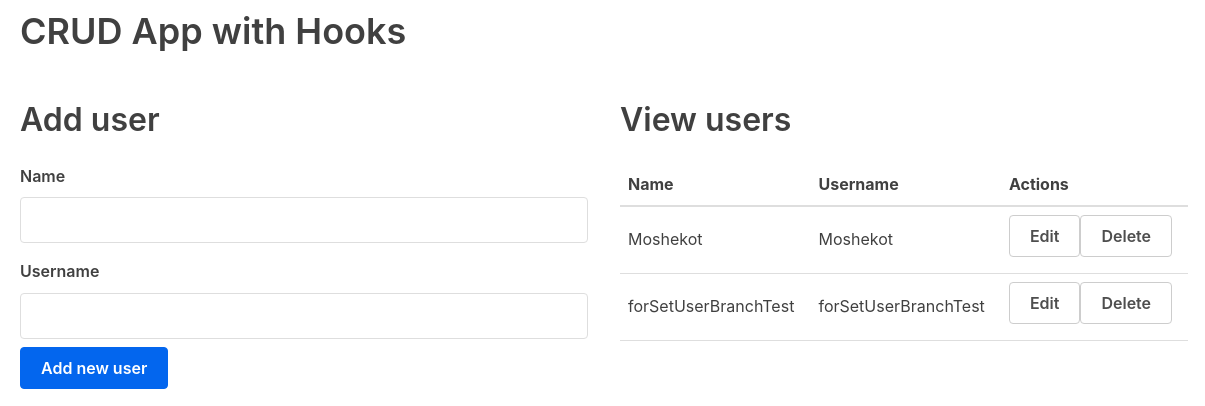
Test case: Editing a user › Edit a username in a list
The width and height of the screenshot is (1205, 406).
Click the 1st button with test id "Moshekot".
click(1045, 236)  # box [1009,215,1081,257]
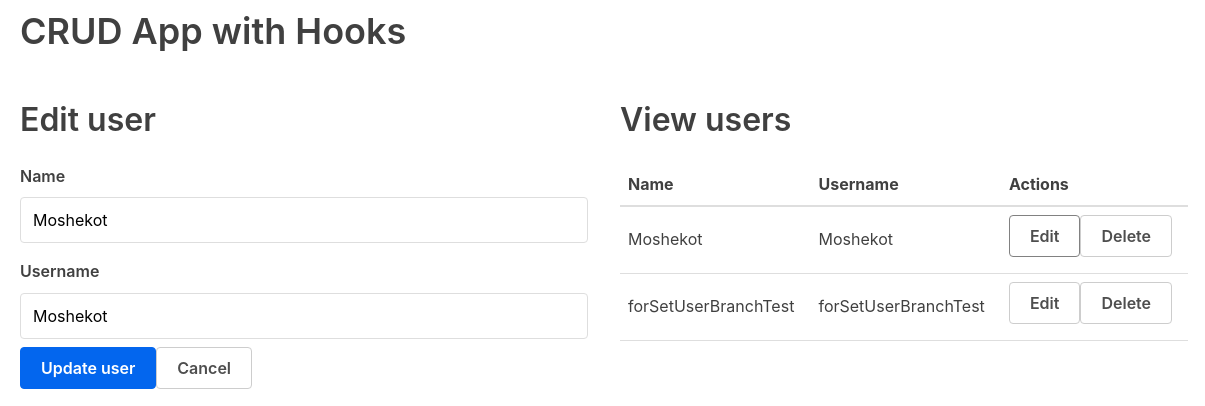
Replace the text in the field with test id "editUsernameText" with "MoshekotUserEdited" at [304, 316], box [20,293,588,339]
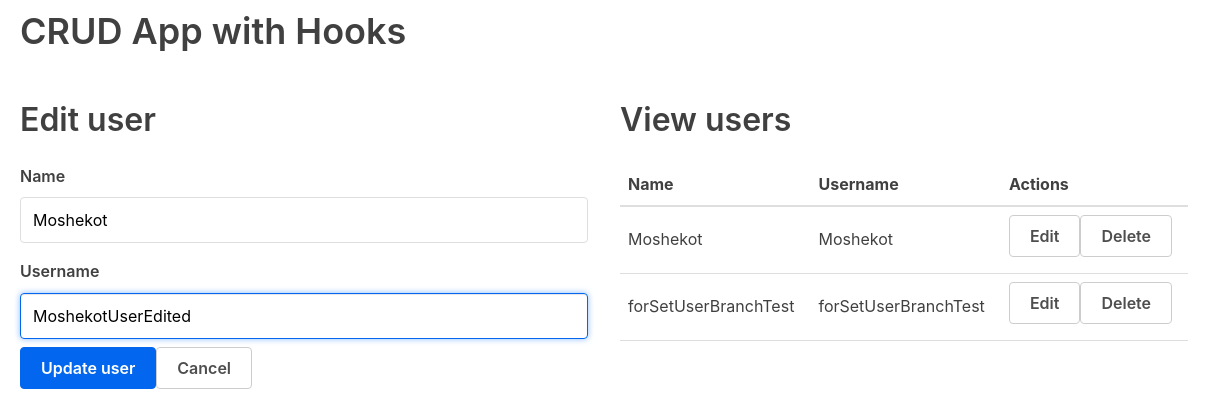
Click the button with test id "editUserButton".
click(88, 368)  # box [20,347,156,389]
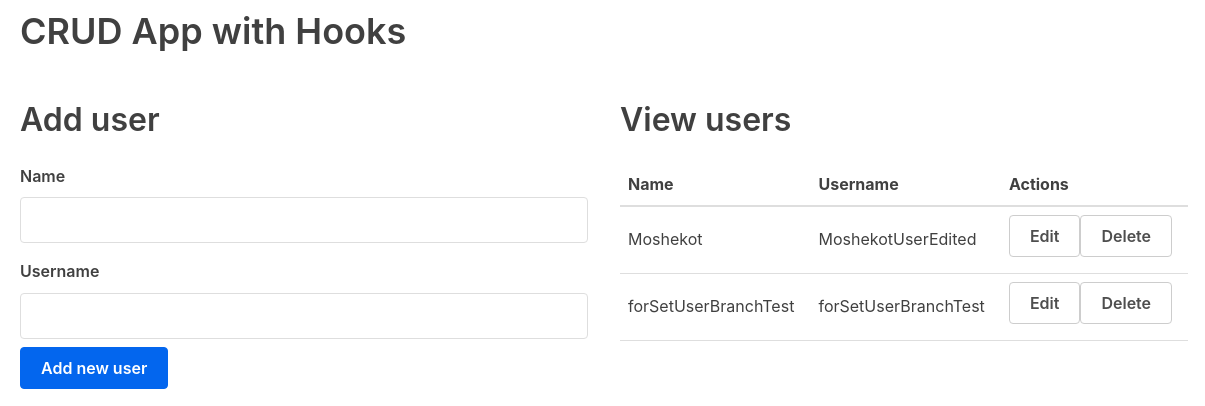
Expected: the text "MoshekotUserEdited" is shown, [810,206,1001,274]
